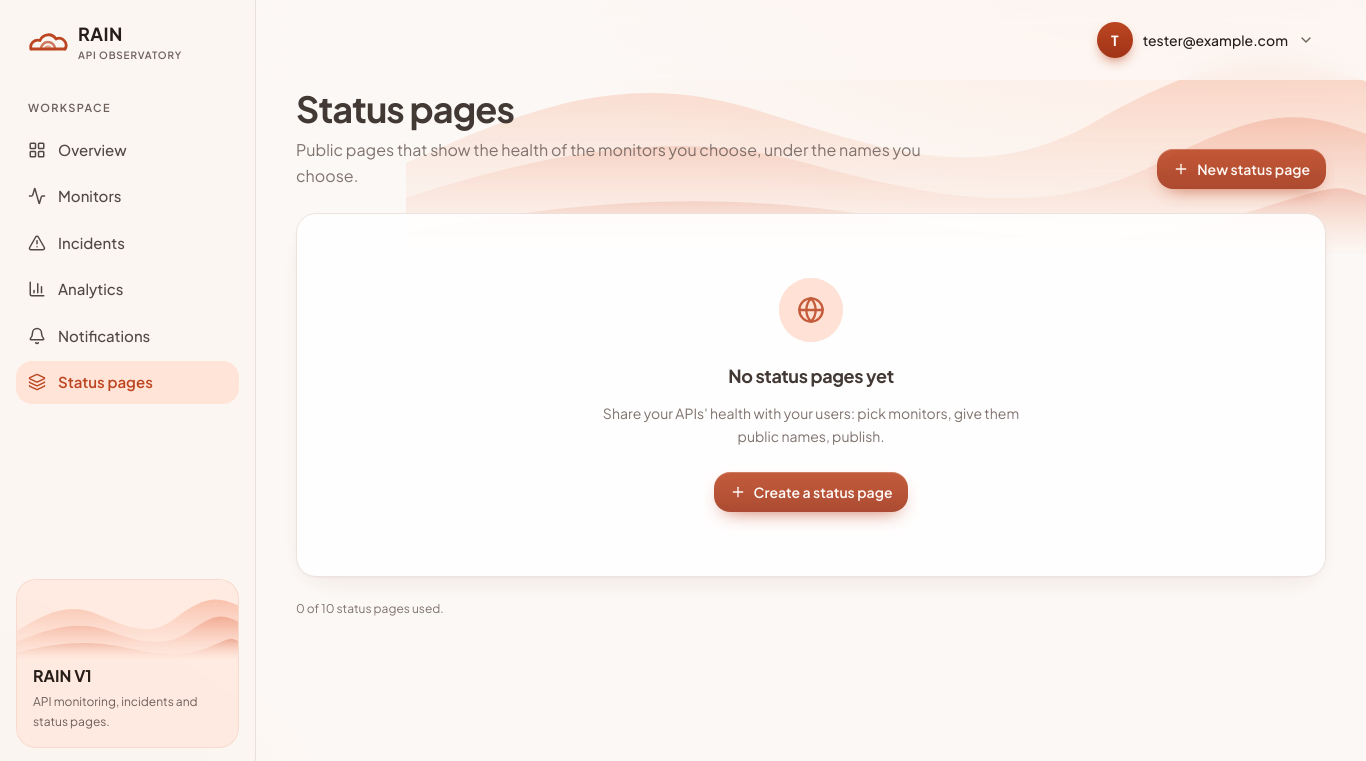
Scenario: status page management › shows an empty state and creates a draft page that opens in the editor
Check: the heading "No status pages yet" is shown, box [728, 361, 894, 389]
Click the button "Create a status page": (811, 491) [714, 471, 908, 511]
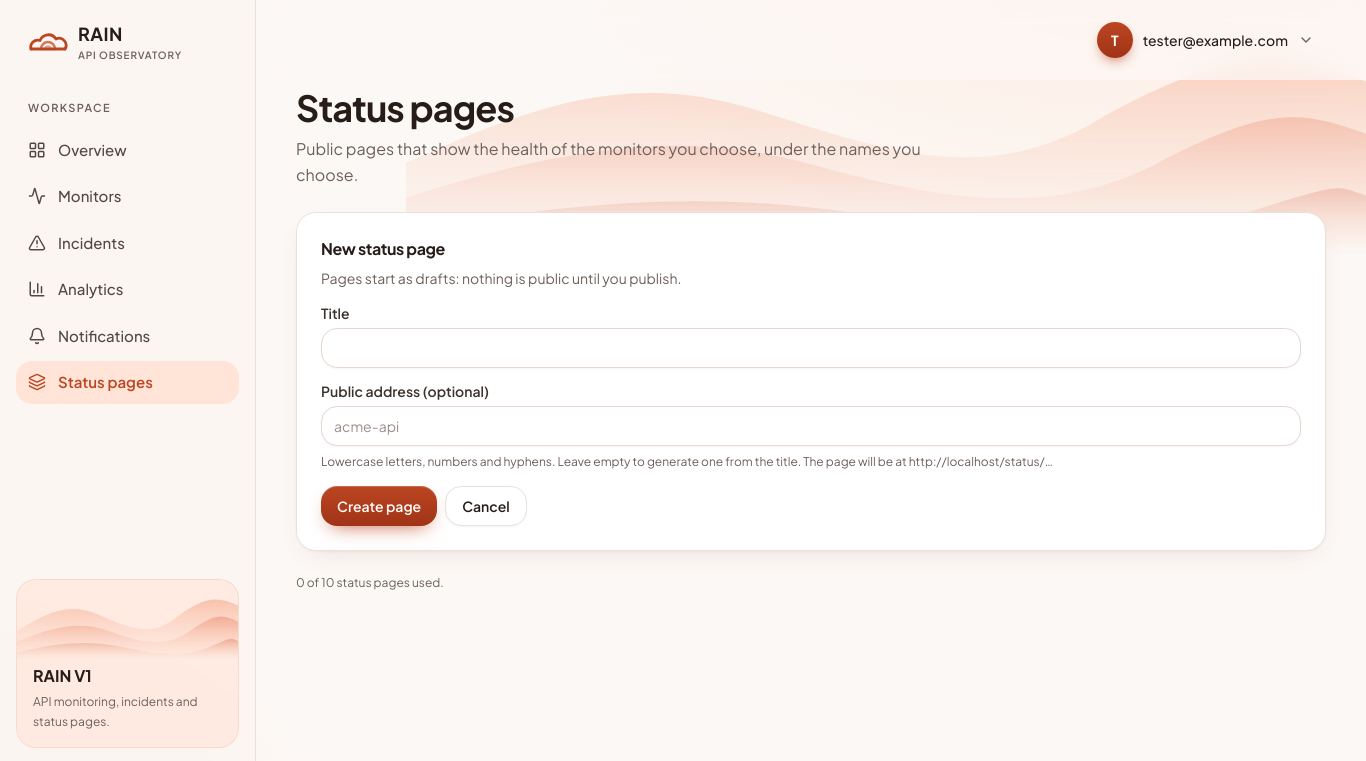
In the field labelled "Title": (811, 348) [321, 328, 1301, 368], type "Acme status"
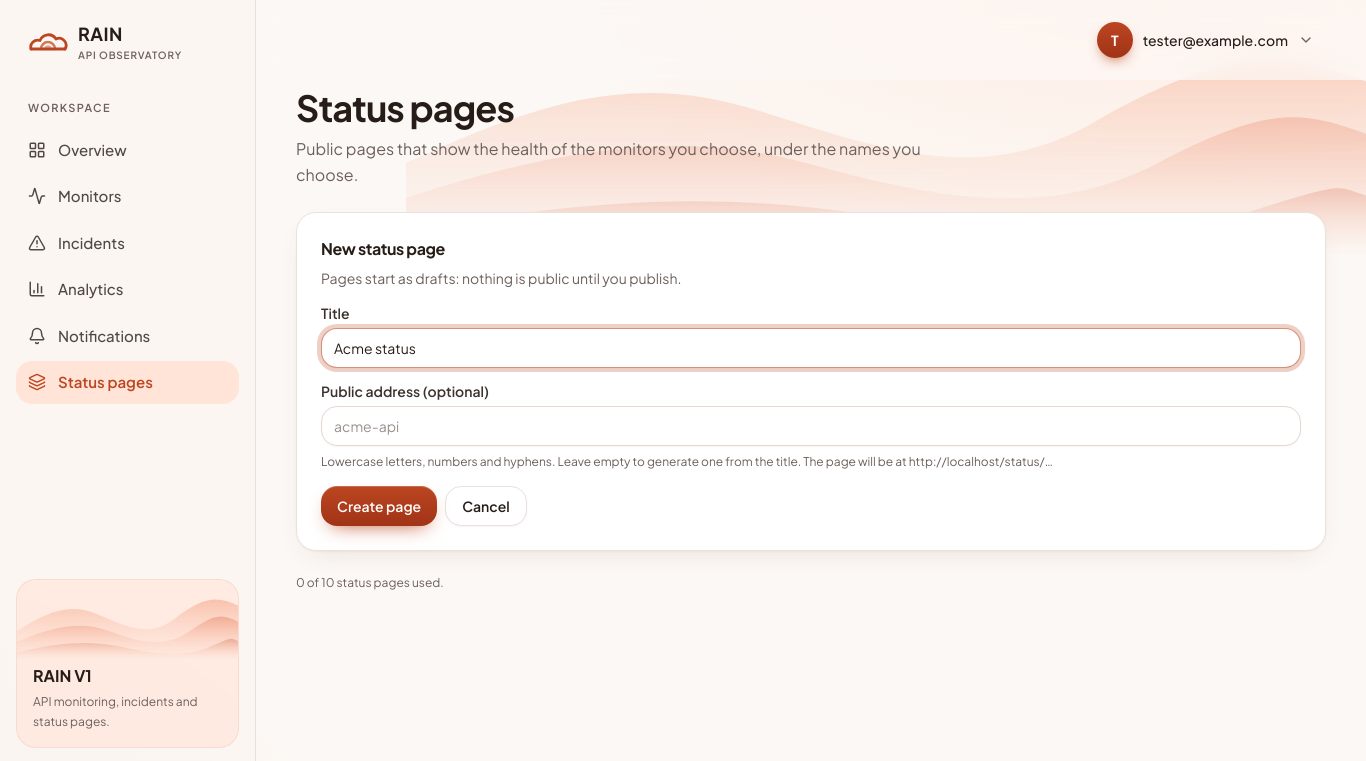
In the field labelled "Public address (optional)": (811, 426) [321, 406, 1301, 446], type "acme"
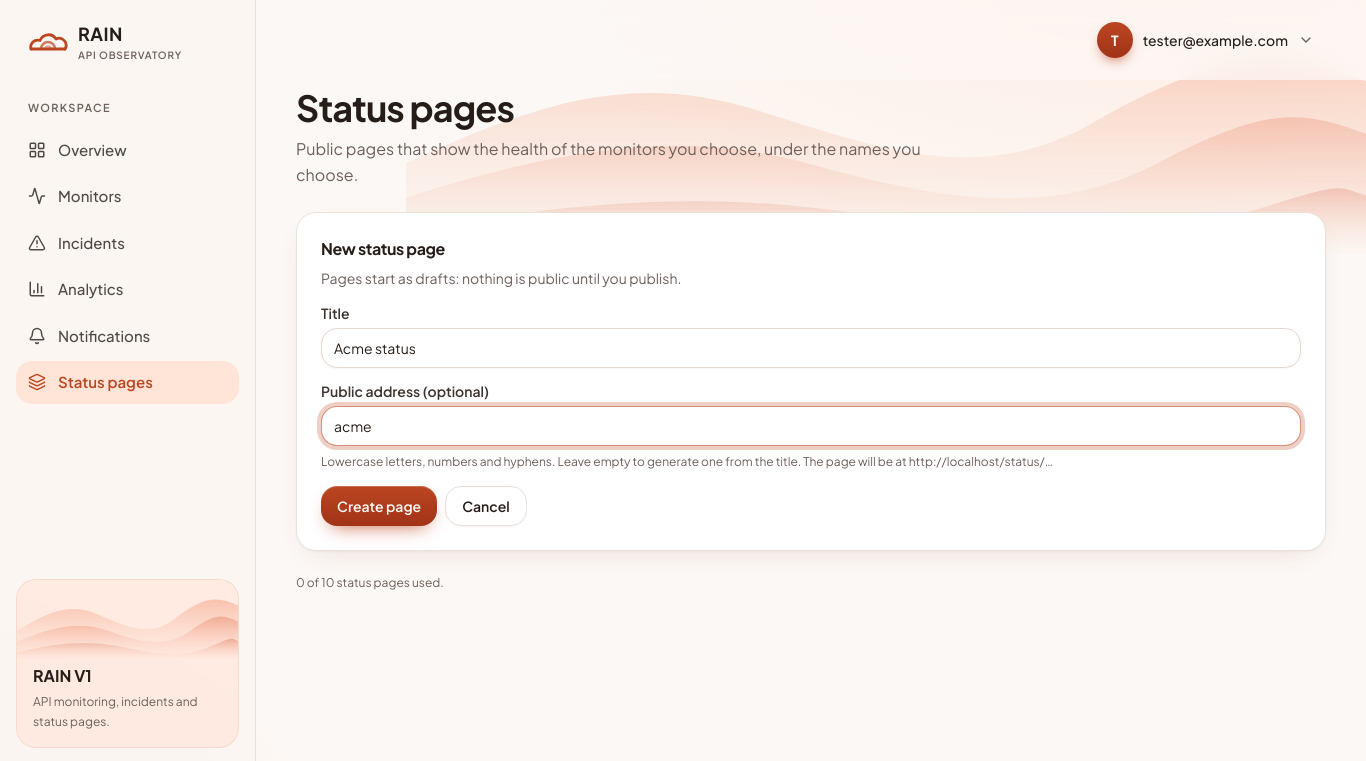
Click the button "Create page": (379, 506) [321, 486, 437, 526]
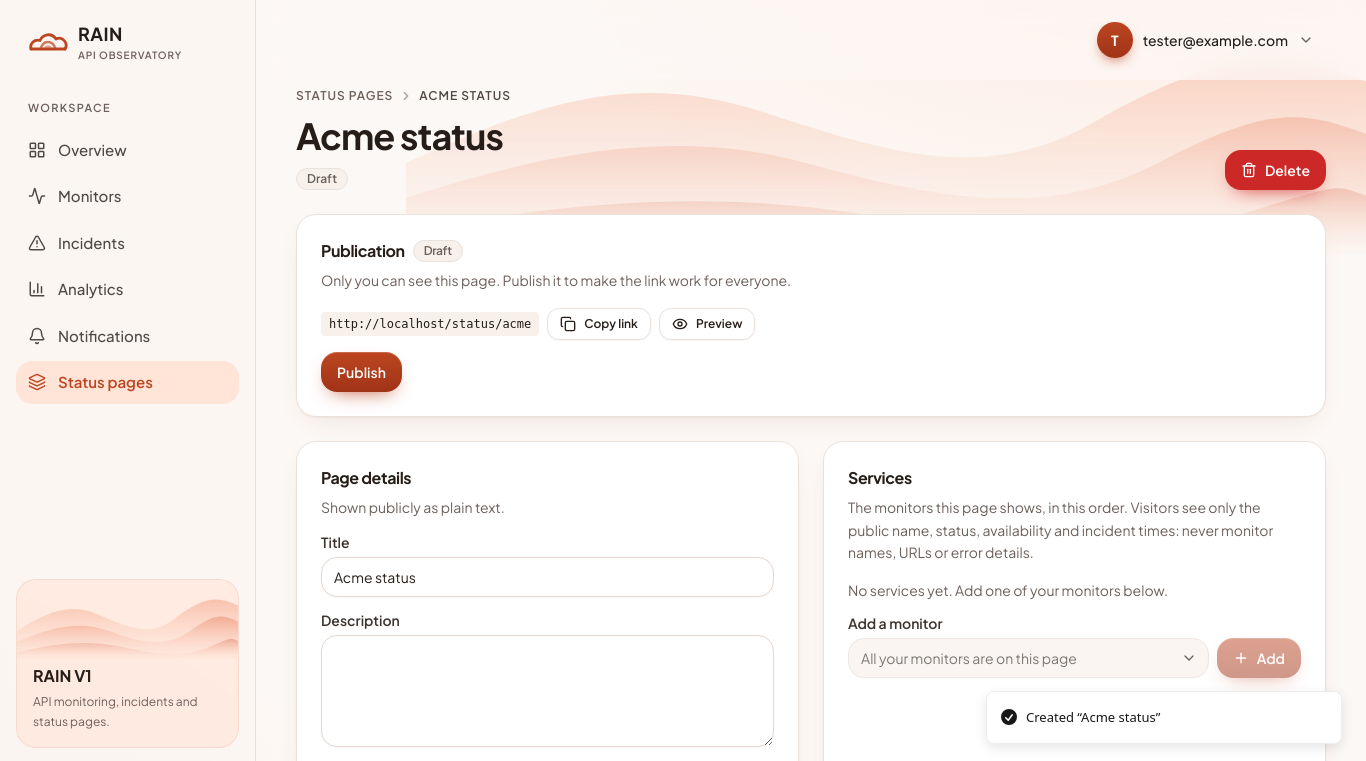
Check: the text "Only you can see this page" is shown, box [321, 271, 791, 289]
Check: the text with test id "public-url" shows "/status/acme", box [329, 317, 531, 331]
